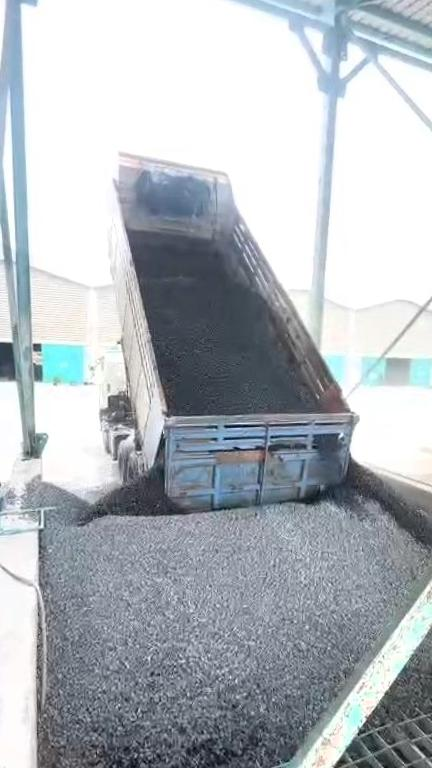gravel: (27, 444, 432, 768), (130, 237, 315, 415), (378, 574, 432, 717)
sand: (379, 439, 432, 498)
